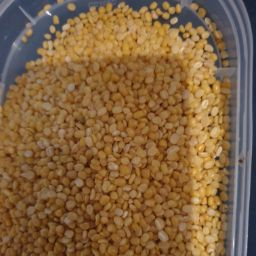Red Split Lentils(malka masar): (11, 14, 227, 256), (15, 52, 222, 213), (31, 35, 155, 256)
